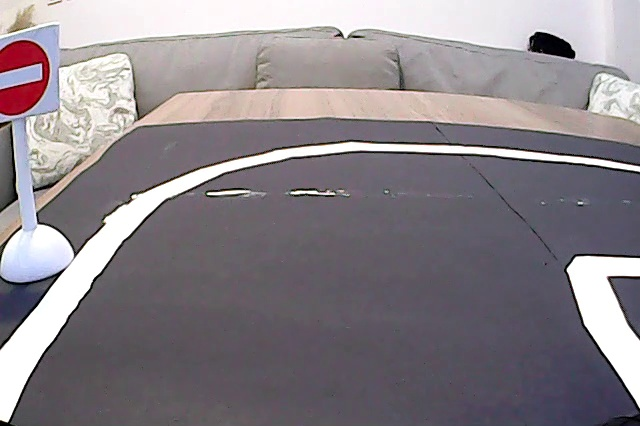do not enter: (1, 33, 60, 121)
